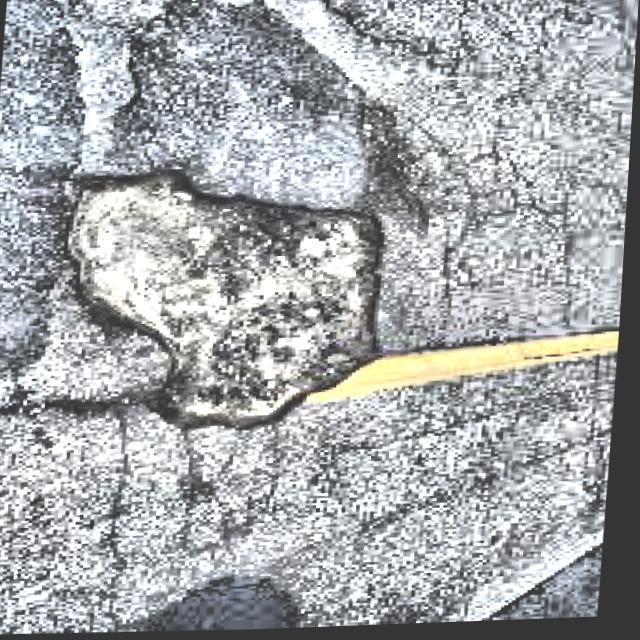pothole: (73, 175, 386, 430)
